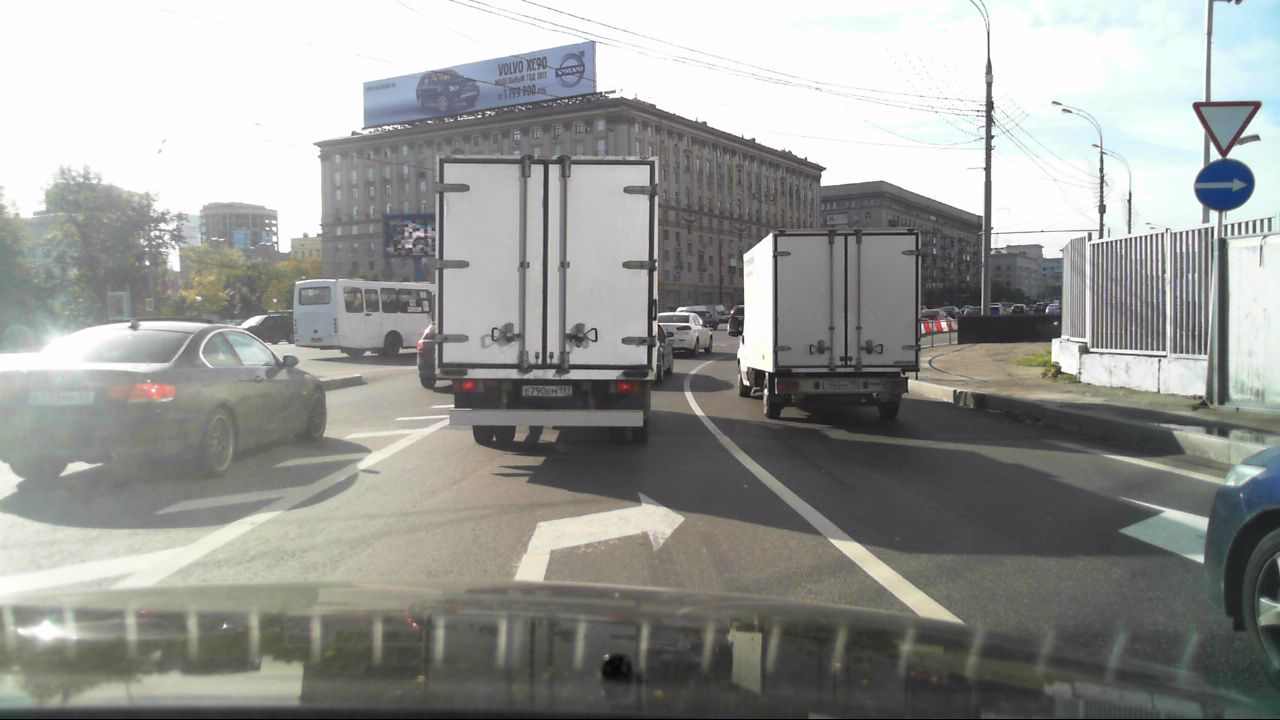Turn Right: (1193, 159, 1255, 212)
